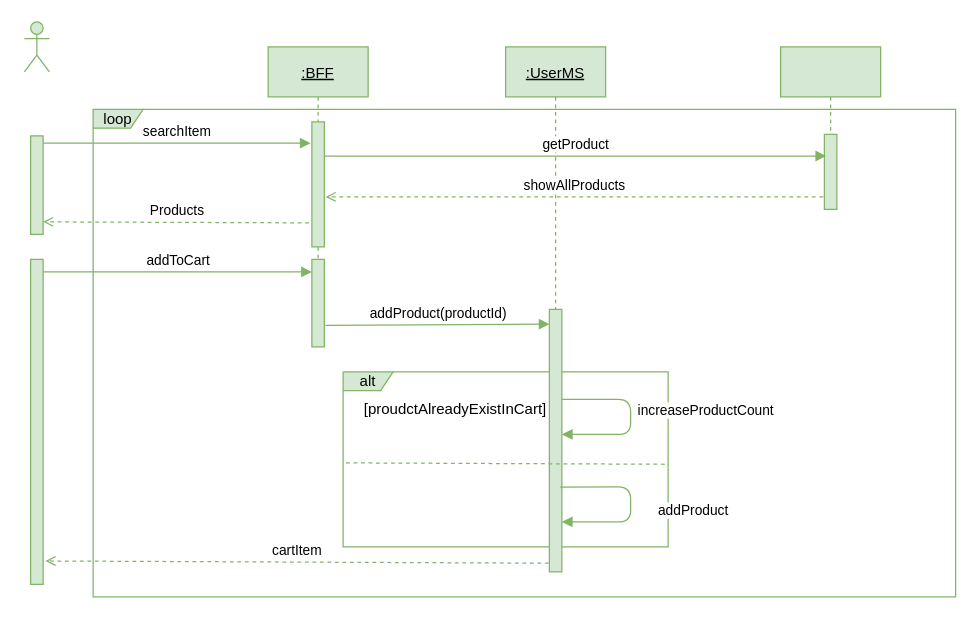
This 978x619 diagram has some shape labels left out. Here are the shapes that lost their labels. From the top down, the centre of each, then its label:
At (36,46): "User".
At (830,127): ":Product".
